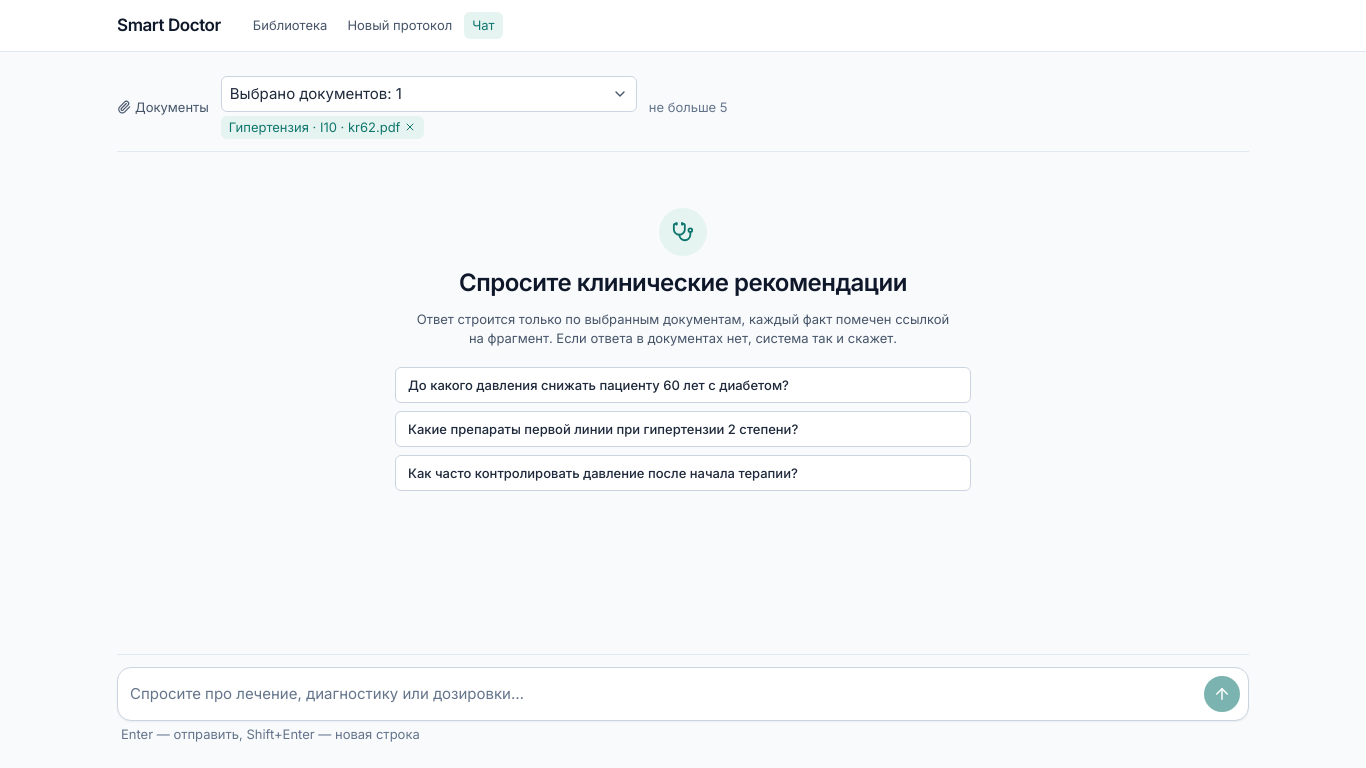
Test: ChatPage › «Новый чат» очищает ленту
In the text box named "Вопрос по клинрекам": point(661, 694) left=126, top=676, right=1196, bottom=712, type "до какого давления снижать пациенту 60 лет?"
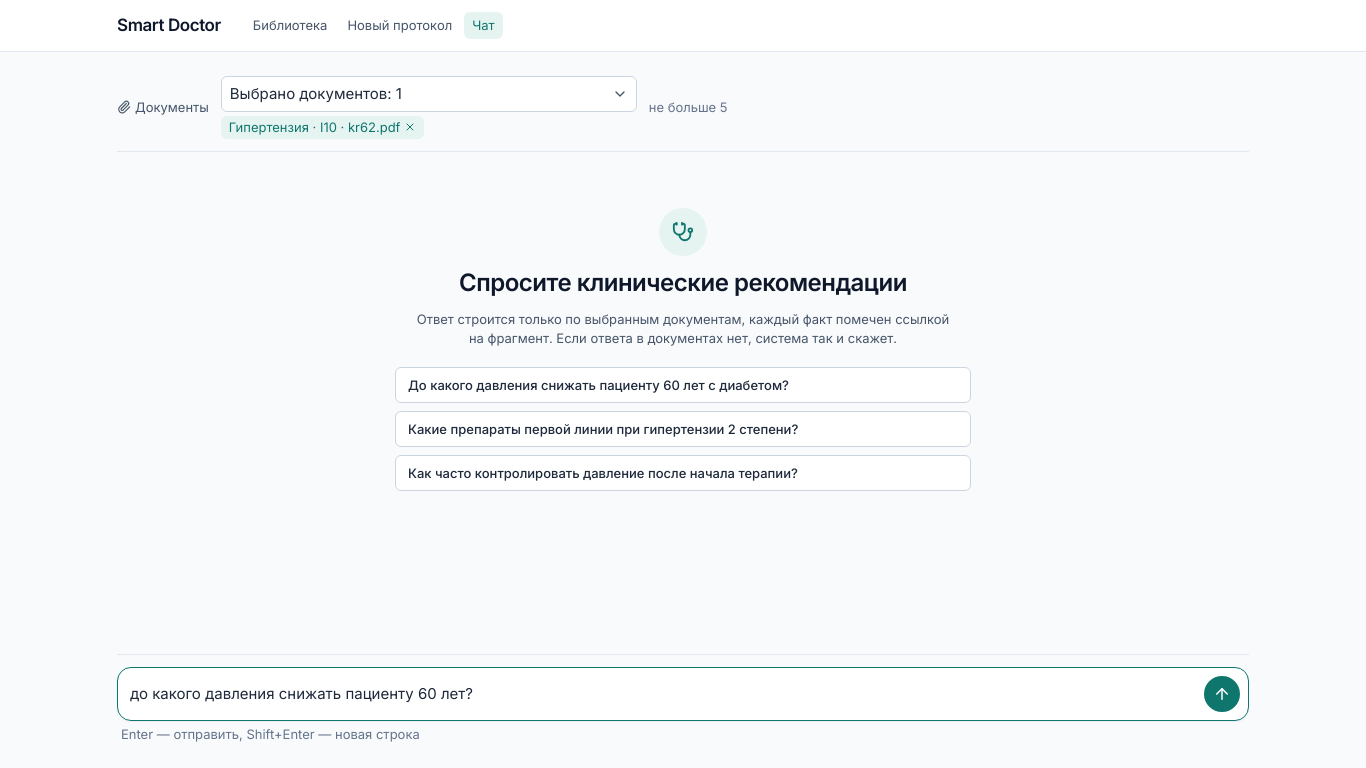
Click the button named "Отправить": point(1222, 694) left=1204, top=676, right=1240, bottom=712
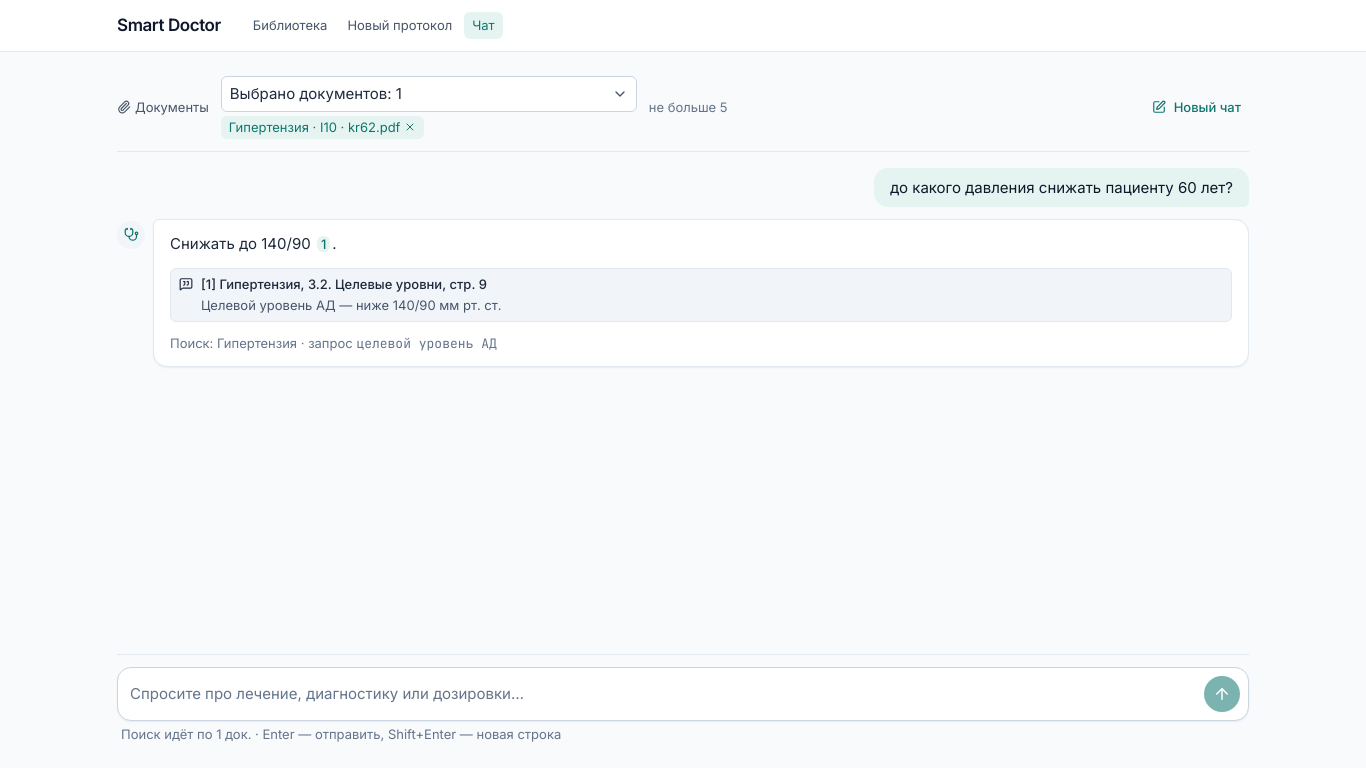
Now the text "Снижать до 140/90 1 ." is shown, box left=170, top=234, right=337, bottom=253
Click the button "Новый чат": point(1196, 107) left=1144, top=93, right=1249, bottom=121
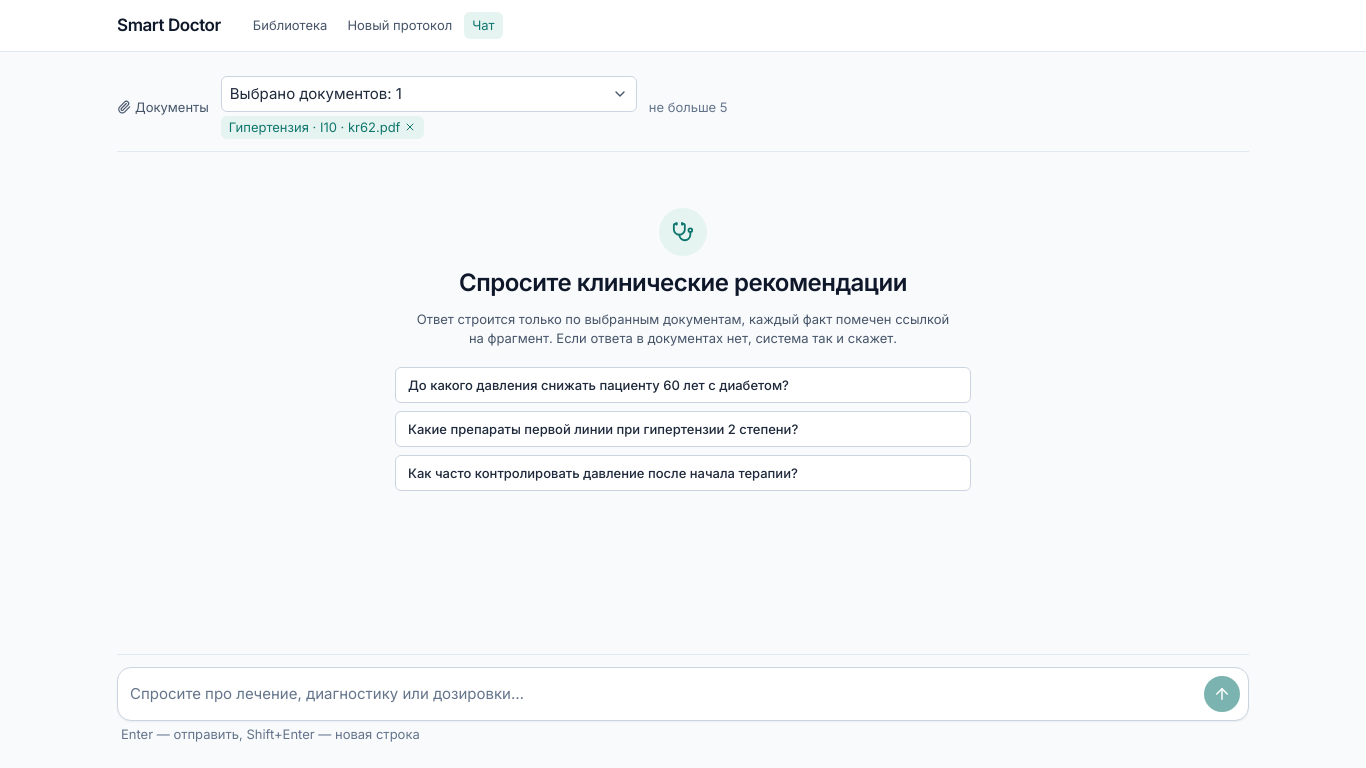
Expected: the text "до какого давления снижать пациенту 60 лет?" is not shown
Now the heading "Спросите клинические рекомендации" is shown, box left=459, top=268, right=907, bottom=298
